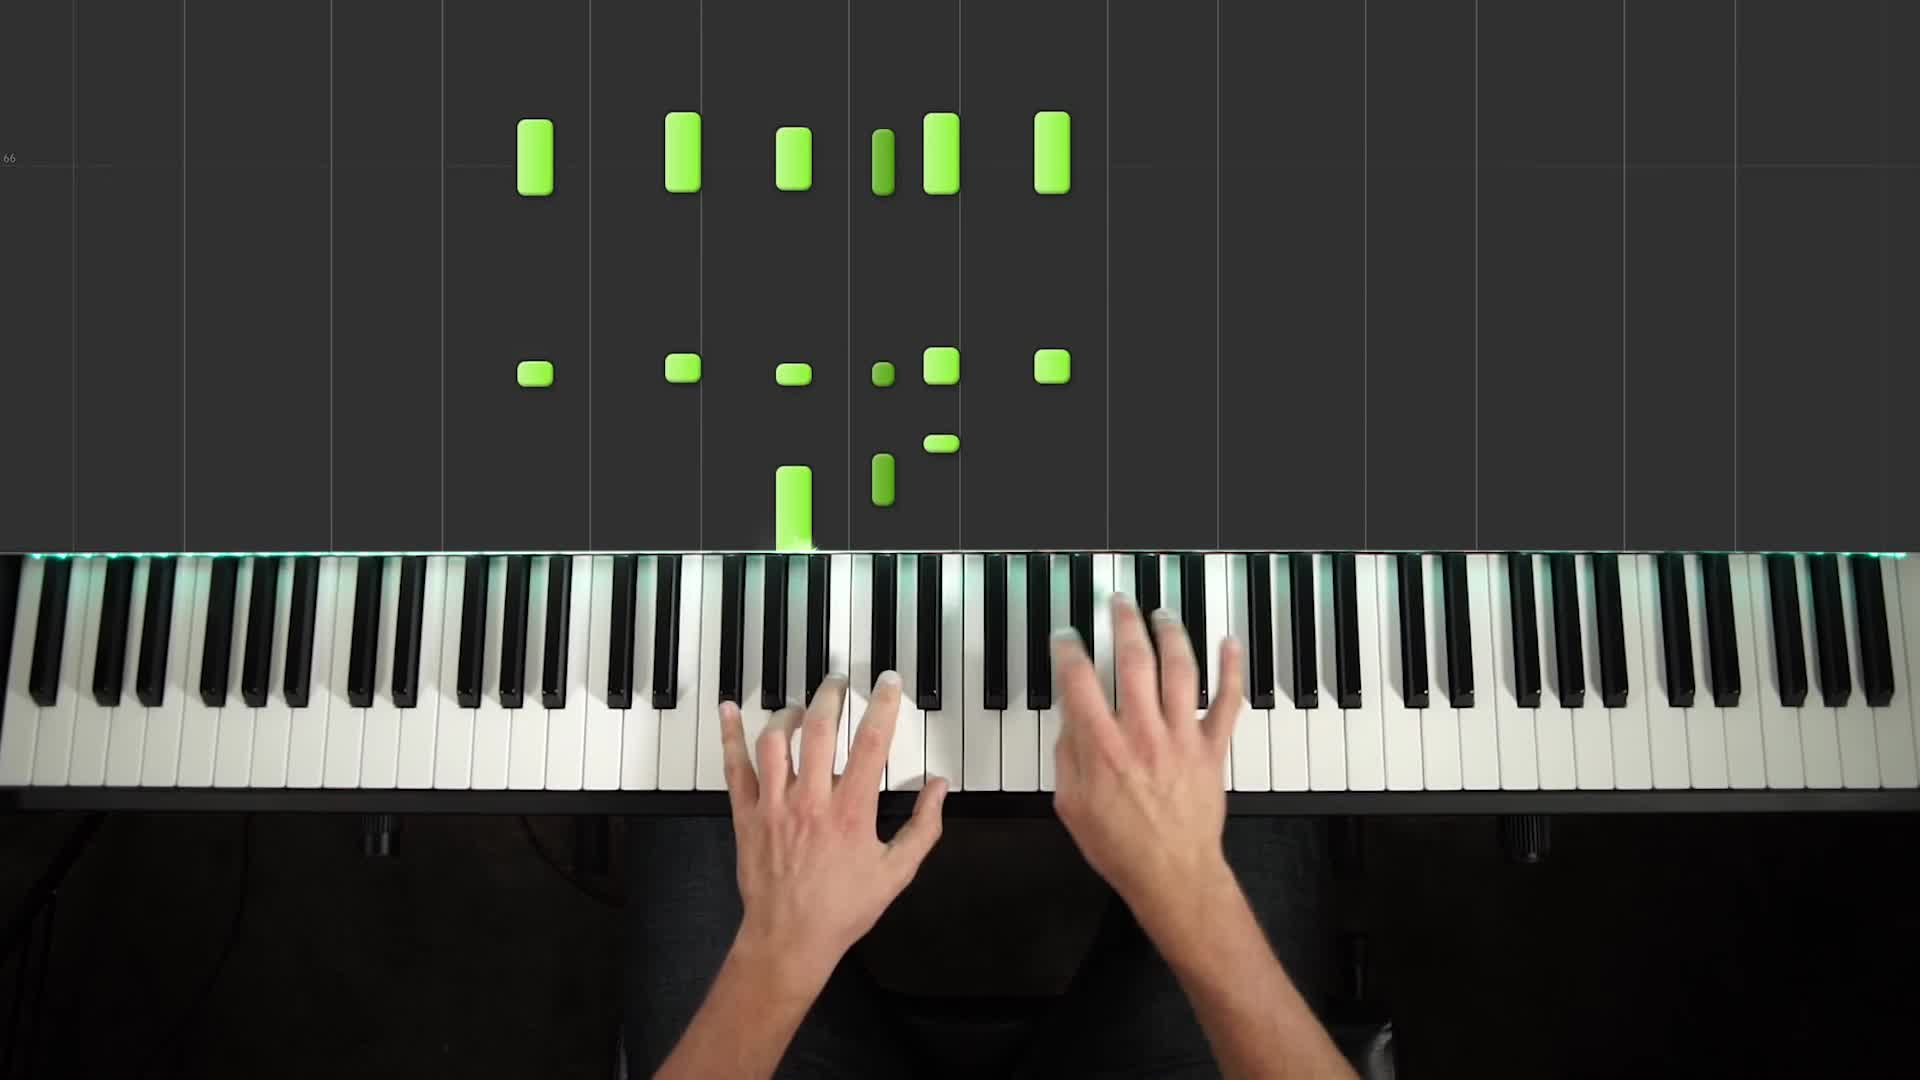left: (721, 669, 952, 928)
right: (1050, 593, 1246, 891)
